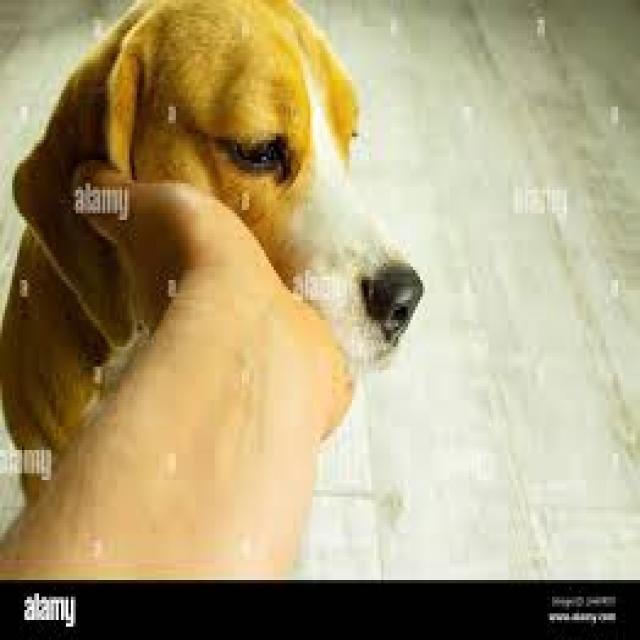Dog: (0, 0, 427, 383)
